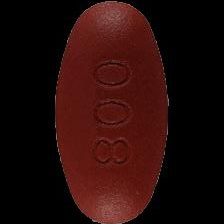50090-1327: (0, 0, 224, 224)
